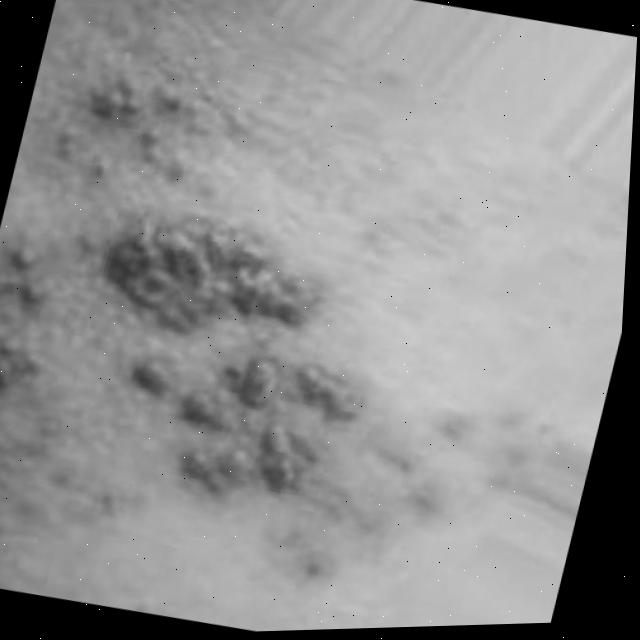Shingles: (0, 40, 446, 593)
